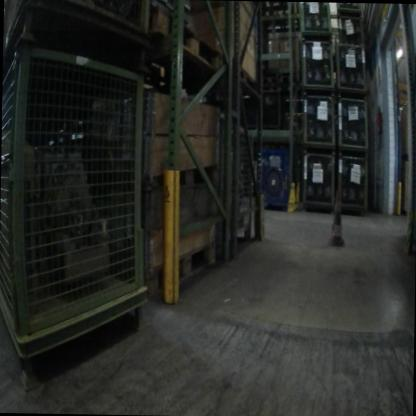pallet: (145, 5, 230, 90), (148, 235, 230, 306), (226, 61, 277, 110)
stillage: (0, 41, 156, 376), (213, 96, 260, 263), (7, 0, 145, 52), (299, 144, 337, 214), (299, 86, 340, 150), (258, 142, 294, 211), (336, 92, 373, 151), (336, 151, 371, 213), (334, 38, 370, 95), (299, 37, 338, 89), (333, 13, 370, 54), (296, 2, 333, 38), (336, 3, 361, 16)
